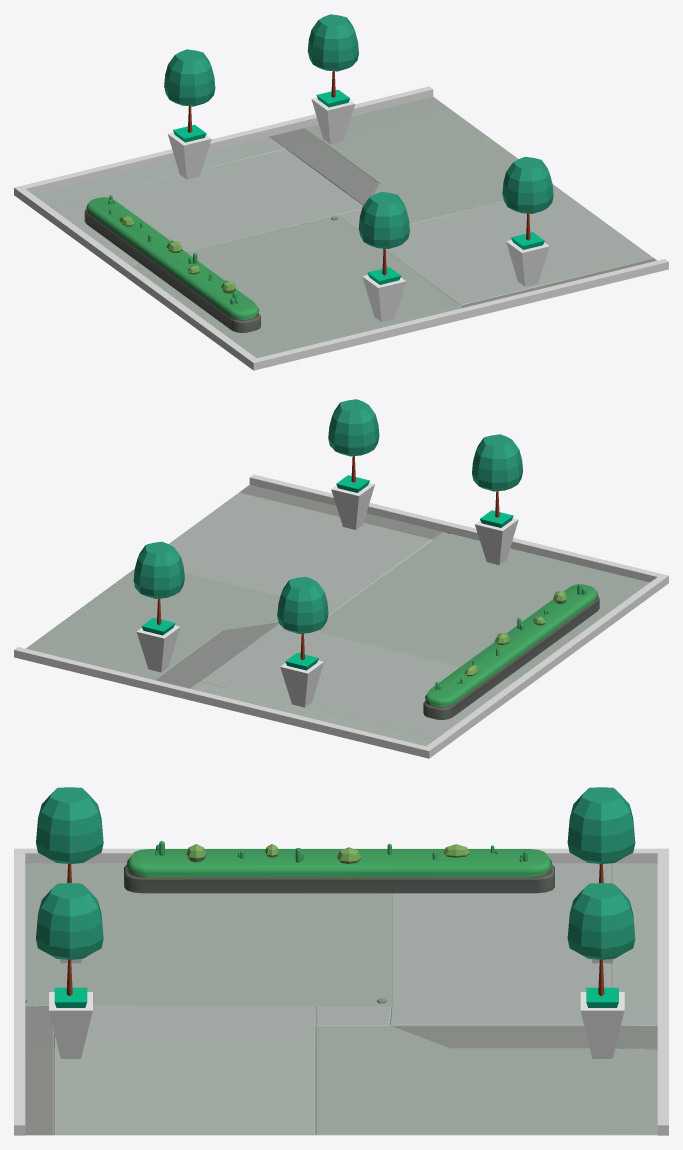
3 renders of one model, top to bottom at view 1: azimuth 30°, elevation 25°; view 2: azimuth 150°, elevation 25°; view 3: azimuth 270°, elevation 25°, orthographic. The views are drawn at different scales.
Parts seen in each view (by area): view 1: Scifi_Panel_04_Plaza014_group4.039_Scifi_Panel_04_Plaza014_g, Cube.1137_Cube.1266, TreePatch_Plaza014_group3.003_TreePatch_Plaza014_group3.041, base_singlePot03.001_base_singlePot03.033, base_singlePot03.002_base_singlePot03.034, base_singlePot03.000_base_singlePot03.032, base_singlePot03.003_base_singlePot03.035; view 2: Scifi_Panel_04_Plaza014_group4.039_Scifi_Panel_04_Plaza014_g, Cube.1137_Cube.1266, TreePatch_Plaza014_group3.003_TreePatch_Plaza014_group3.041, base_singlePot03.003_base_singlePot03.035, base_singlePot03.000_base_singlePot03.032, base_singlePot03.002_base_singlePot03.034, base_singlePot03.001_base_singlePot03.033; view 3: Scifi_Panel_04_Plaza014_group4.039_Scifi_Panel_04_Plaza014_g, TreePatch_Plaza014_group3.003_TreePatch_Plaza014_group3.041, Cube.1137_Cube.1266, base_singlePot03.000_base_singlePot03.032, base_singlePot03.003_base_singlePot03.035, base_singlePot03.001_base_singlePot03.033, base_singlePot03.002_base_singlePot03.034.
Part boxes in pixels (x1,y1,x2,y2): Scifi_Panel_04_Plaza014_group4.039_Scifi_Panel_04_Plaza014_g: (33, 96, 656, 358); Cube.1137_Cube.1266: (14, 86, 668, 370); TreePatch_Plaza014_group3.003_TreePatch_Plaza014_group3.041: (84, 197, 260, 332); base_singlePot03.001_base_singlePot03.033: (164, 49, 215, 179); base_singlePot03.002_base_singlePot03.034: (358, 192, 409, 321); base_singlePot03.000_base_singlePot03.032: (307, 14, 358, 144); base_singlePot03.003_base_singlePot03.035: (502, 156, 553, 286); Scifi_Panel_04_Plaza014_group4.039_Scifi_Panel_04_Plaza014_g: (26, 485, 649, 746); Cube.1137_Cube.1266: (14, 474, 668, 758); TreePatch_Plaza014_group3.003_TreePatch_Plaza014_group3.041: (423, 584, 599, 719); base_singlePot03.003_base_singlePot03.035: (328, 399, 379, 529); base_singlePot03.000_base_singlePot03.032: (133, 541, 184, 672); base_singlePot03.002_base_singlePot03.034: (472, 434, 522, 565); base_singlePot03.001_base_singlePot03.033: (277, 576, 328, 707); Scifi_Panel_04_Plaza014_group4.039_Scifi_Panel_04_Plaza014_g: (25, 861, 657, 1135); TreePatch_Plaza014_group3.003_TreePatch_Plaza014_group3.041: (124, 849, 554, 893); Cube.1137_Cube.1266: (14, 848, 668, 1135); base_singlePot03.000_base_singlePot03.032: (567, 883, 635, 1058); base_singlePot03.003_base_singlePot03.035: (36, 883, 103, 1058); base_singlePot03.001_base_singlePot03.033: (567, 787, 635, 963); base_singlePot03.002_base_singlePot03.034: (36, 787, 103, 963).
Bounding box in the file's own units: 10 × 2.79 × 10.
